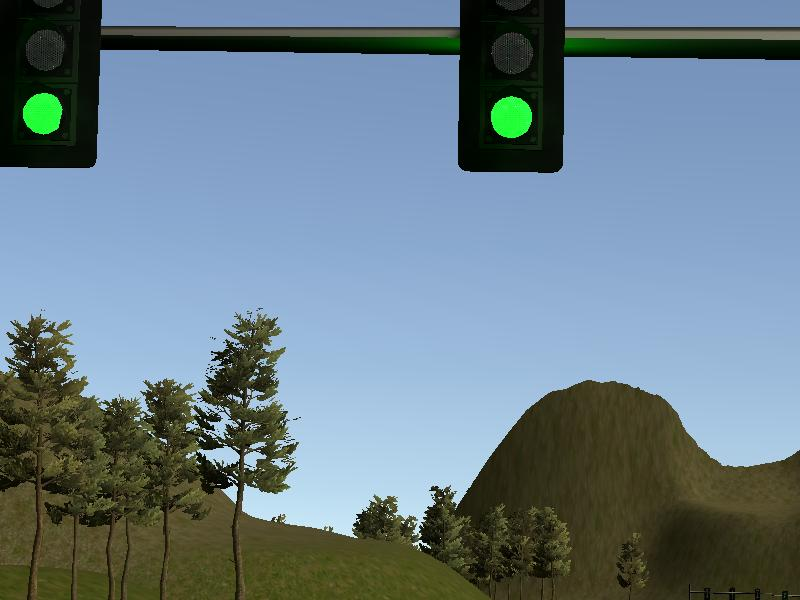green: (458, 1, 562, 171), (3, 1, 97, 168)
